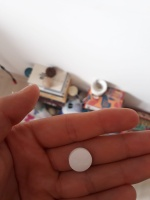Parol: (67, 146, 93, 173)
